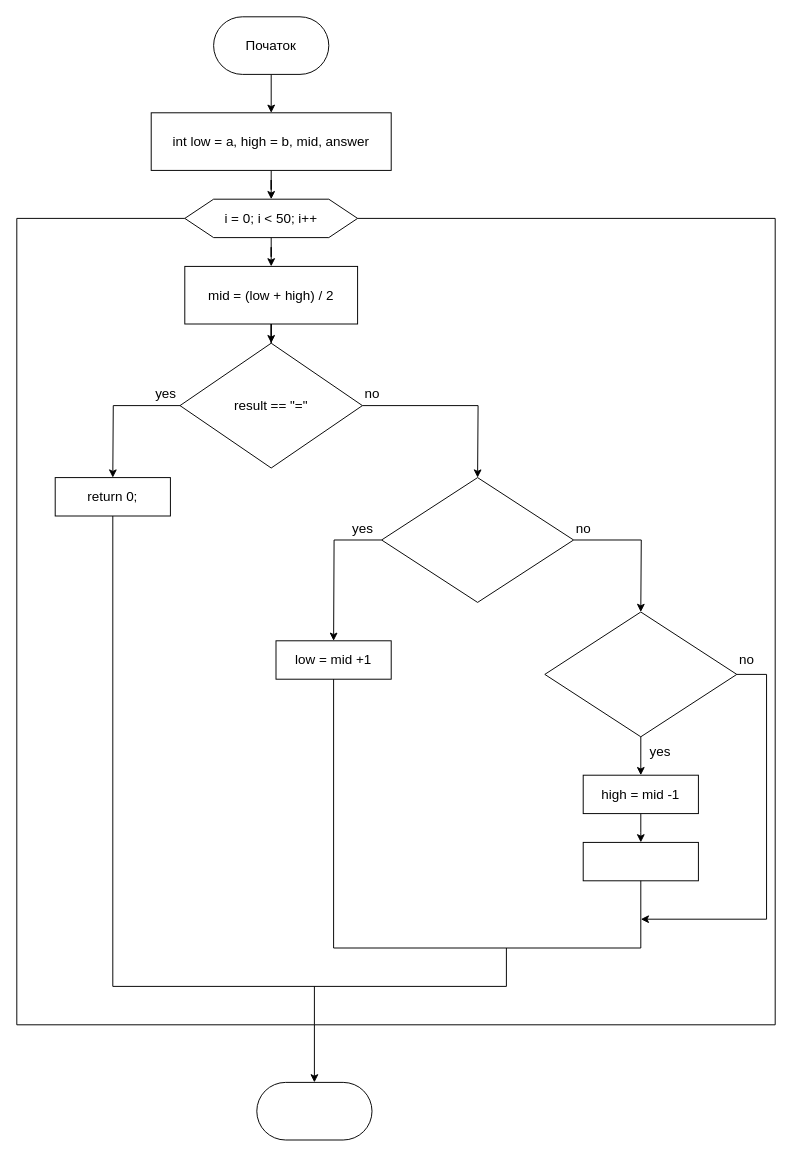
The diagram is 800 pixels wide and 1157 high, and some of its shapes have lost their labels. The shapes that lost their labels are listed below. From the top down, each one's centre as x and y in pixels, then its label:
(x=477, y=539): result == "+"
(x=640, y=674): result == "-"
(x=640, y=861): answer = mid
(x=314, y=1110): кінець
